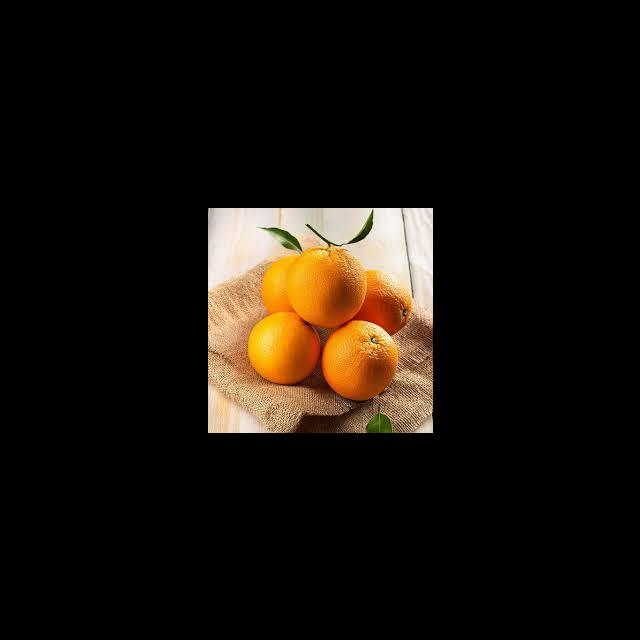orange: (284, 243, 376, 327), (229, 310, 323, 388), (321, 318, 400, 407), (337, 259, 416, 333), (243, 255, 326, 319)
